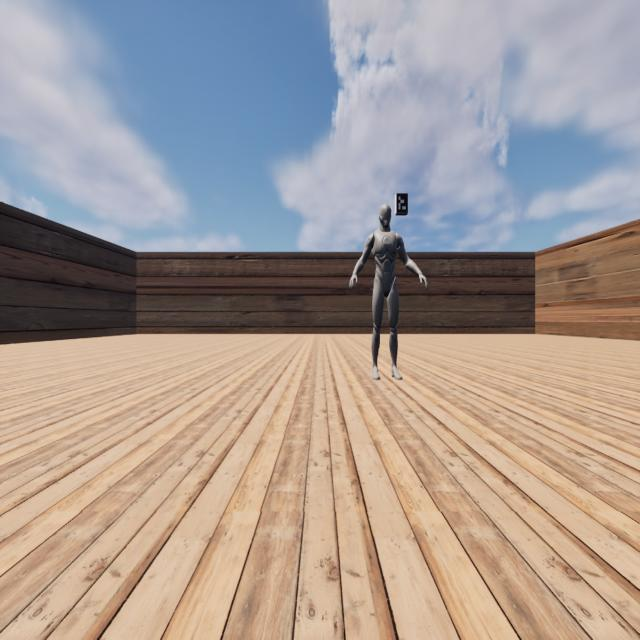aruco: (396, 193, 408, 214)
hip: (374, 277, 396, 287)
